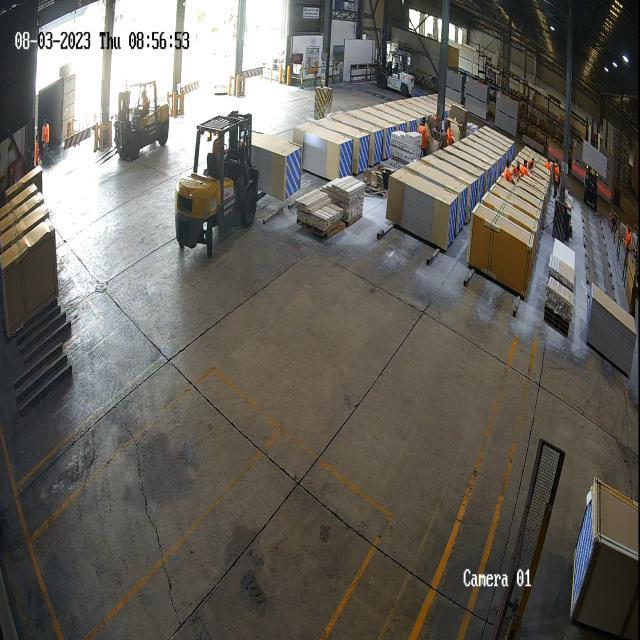forklift: (174, 102, 259, 260), (114, 74, 172, 162), (378, 44, 415, 99)
person: (41, 120, 51, 164), (418, 117, 428, 157), (504, 158, 514, 184), (448, 120, 454, 146), (520, 160, 528, 177), (514, 162, 520, 176)
